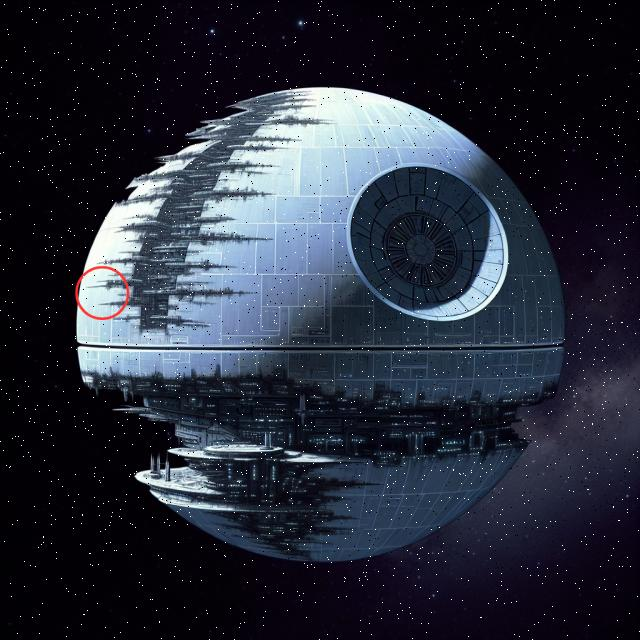Death-star: (76, 88, 564, 560)
